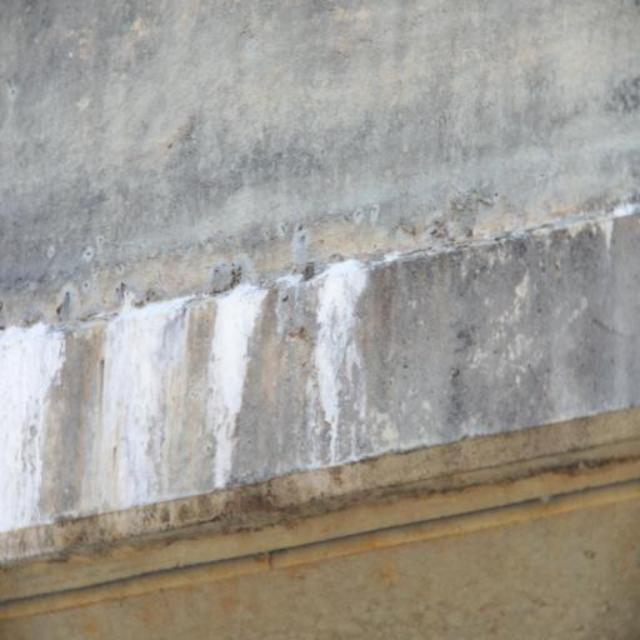D01: (102, 298, 193, 505), (2, 326, 65, 529), (206, 282, 265, 489), (314, 262, 373, 461)
